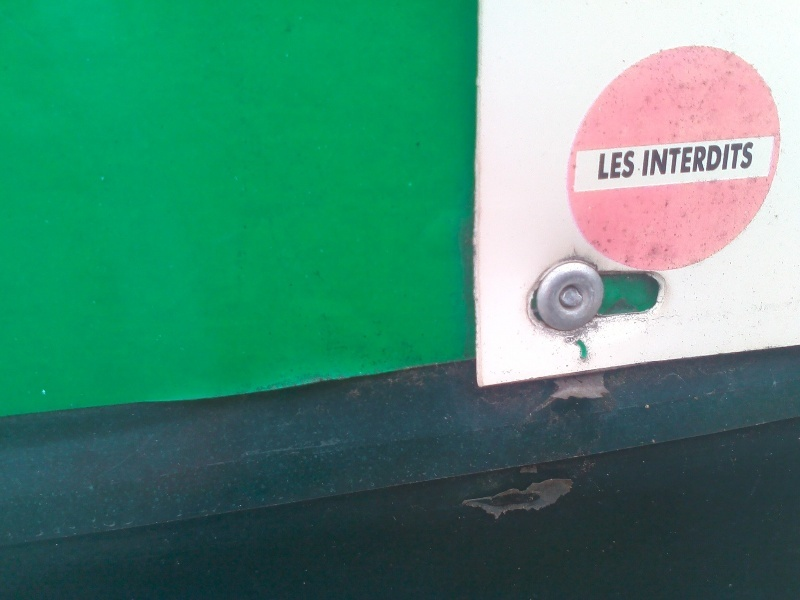text: (657, 142, 672, 177), (673, 142, 688, 177), (689, 142, 704, 177), (705, 142, 720, 177), (721, 142, 736, 177), (737, 142, 752, 177), (609, 150, 624, 181), (645, 142, 656, 177), (625, 150, 636, 181), (600, 150, 608, 181), (753, 142, 755, 177)
